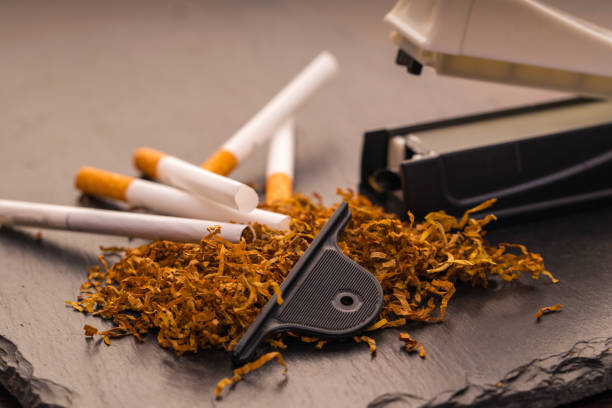cigarette: (200, 48, 344, 177), (74, 166, 292, 232), (0, 196, 258, 244), (131, 145, 259, 213), (264, 117, 295, 205)
